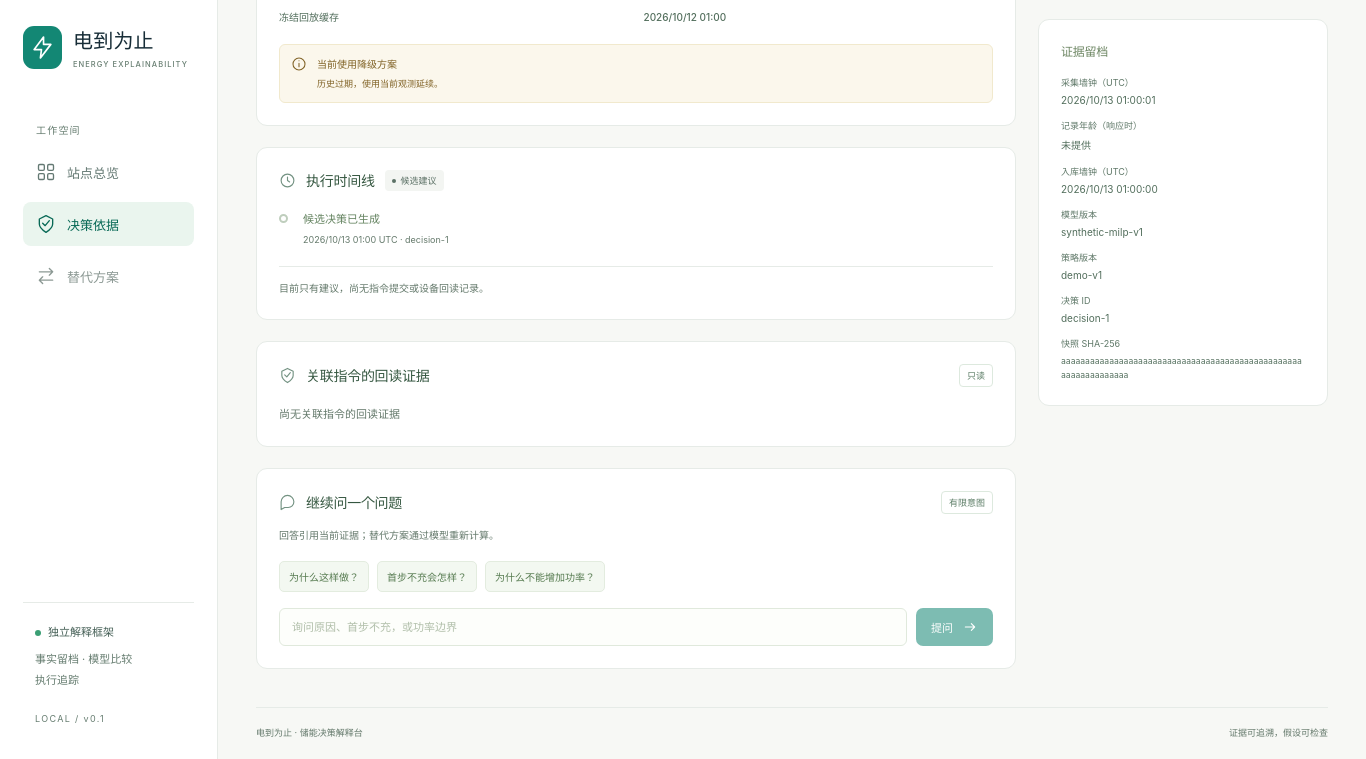
Test: 储能解释用户流程 › 不支持的问题返回明确范围，提供证据型追问入口
(page scrolled)
Type "给我买一块电池" into the field named "你的问题".
click(593, 627); type("给我买一块电池")  # box [279,608,907,646]
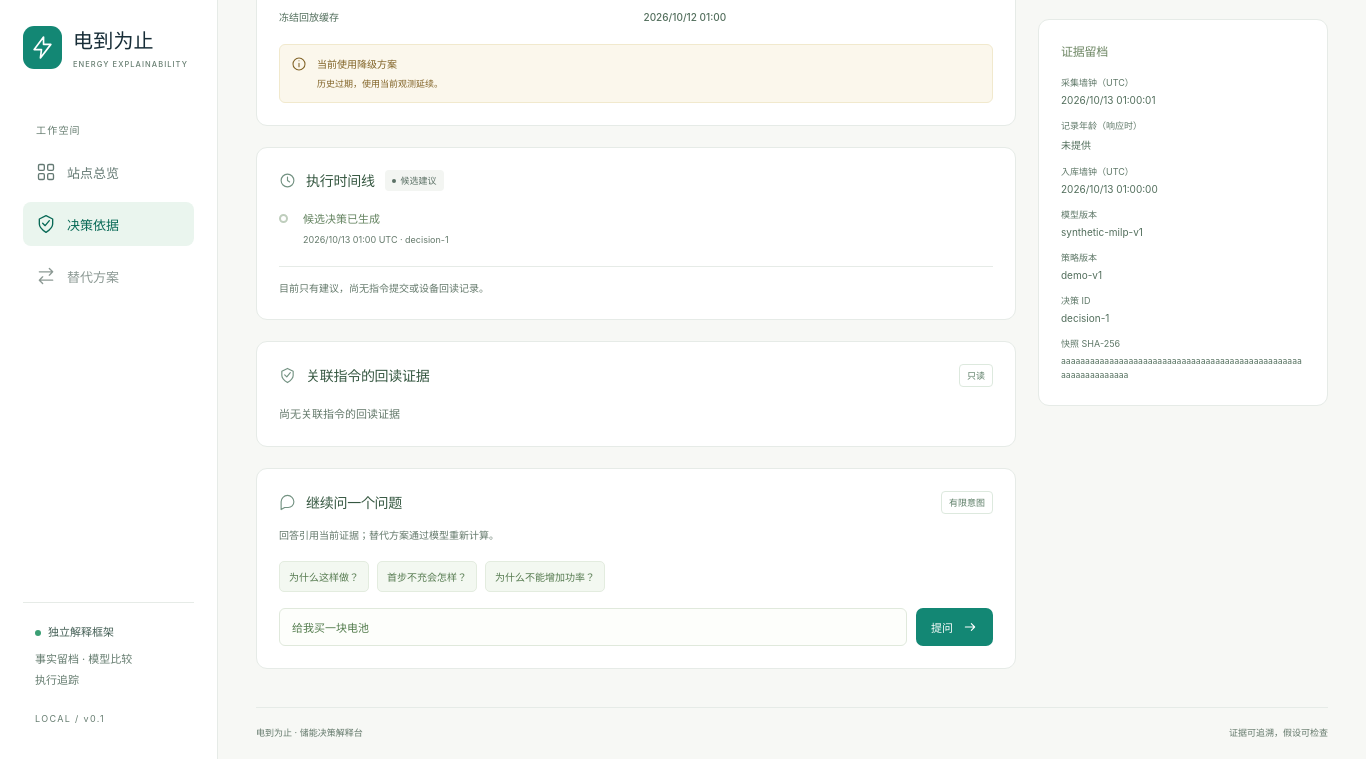
Click the button "提问".
click(954, 627)  # box [916,608,993,646]
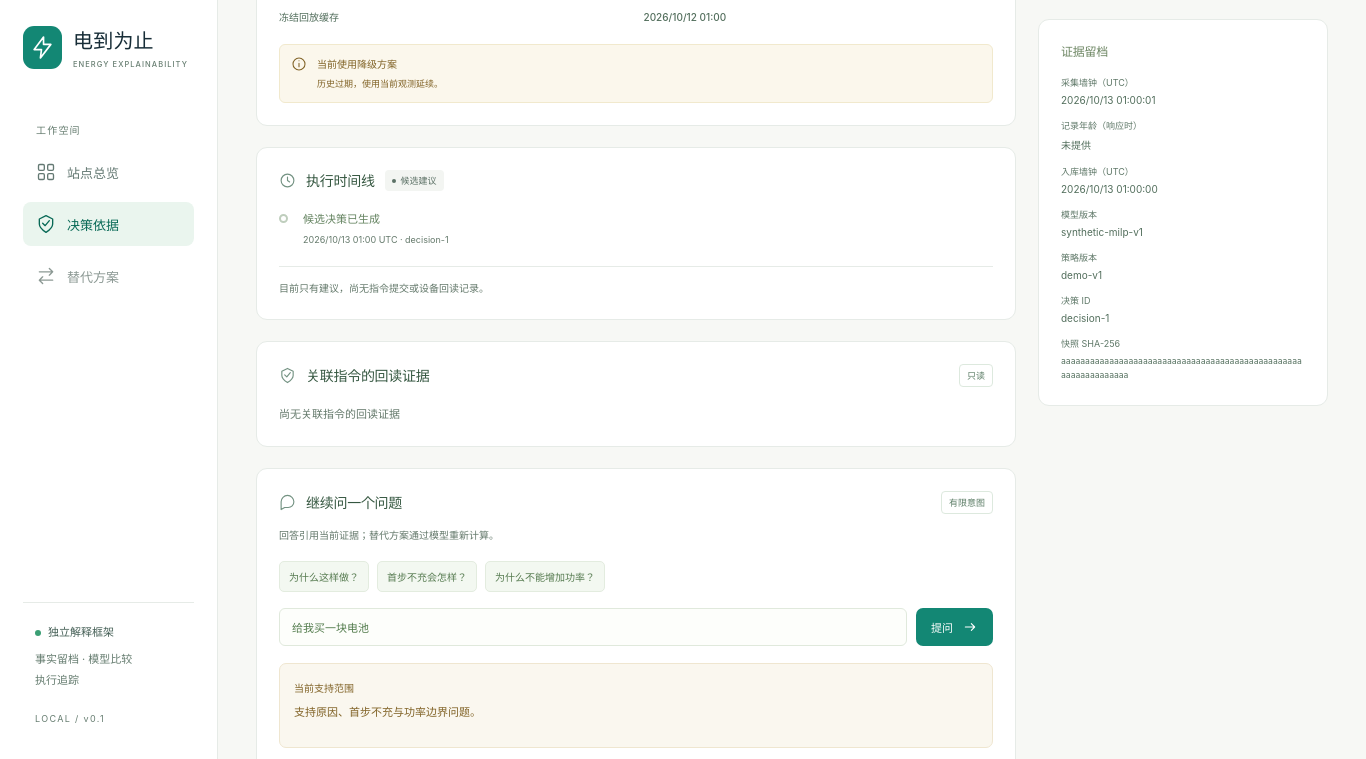
Now the text "支持原因、首步不充与功率边界问题。" is shown, box [294,705,481,719]
Now the text "当前支持范围" is shown, box [294,682,354,694]
